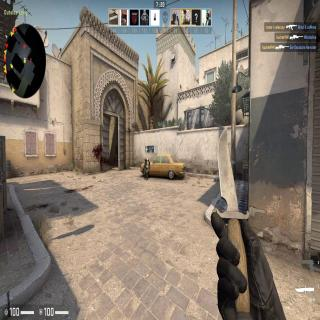CT-Body: (143, 156, 151, 180)
CT-Head: (145, 158, 147, 161)
